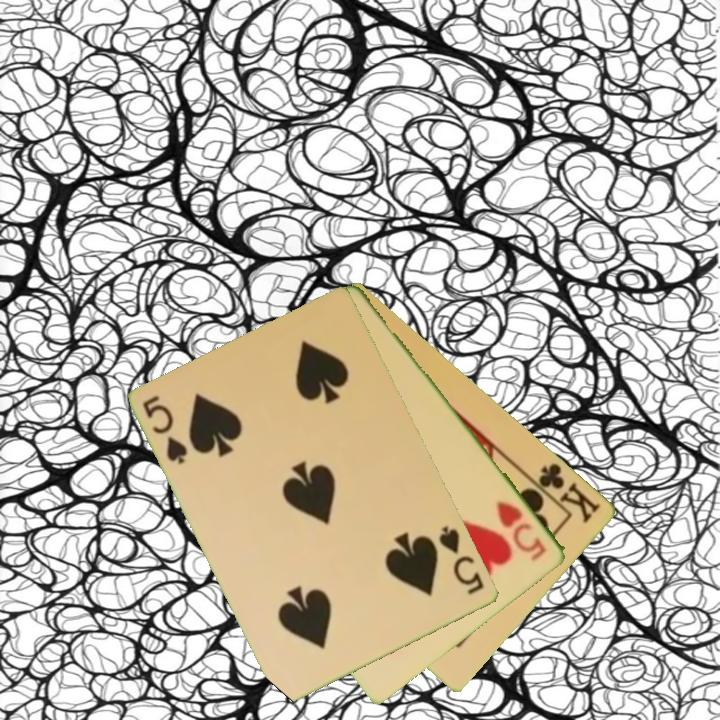5h: (493, 497, 550, 565)
5s: (139, 391, 191, 468), (436, 522, 488, 598)
Kc: (526, 459, 604, 526)
